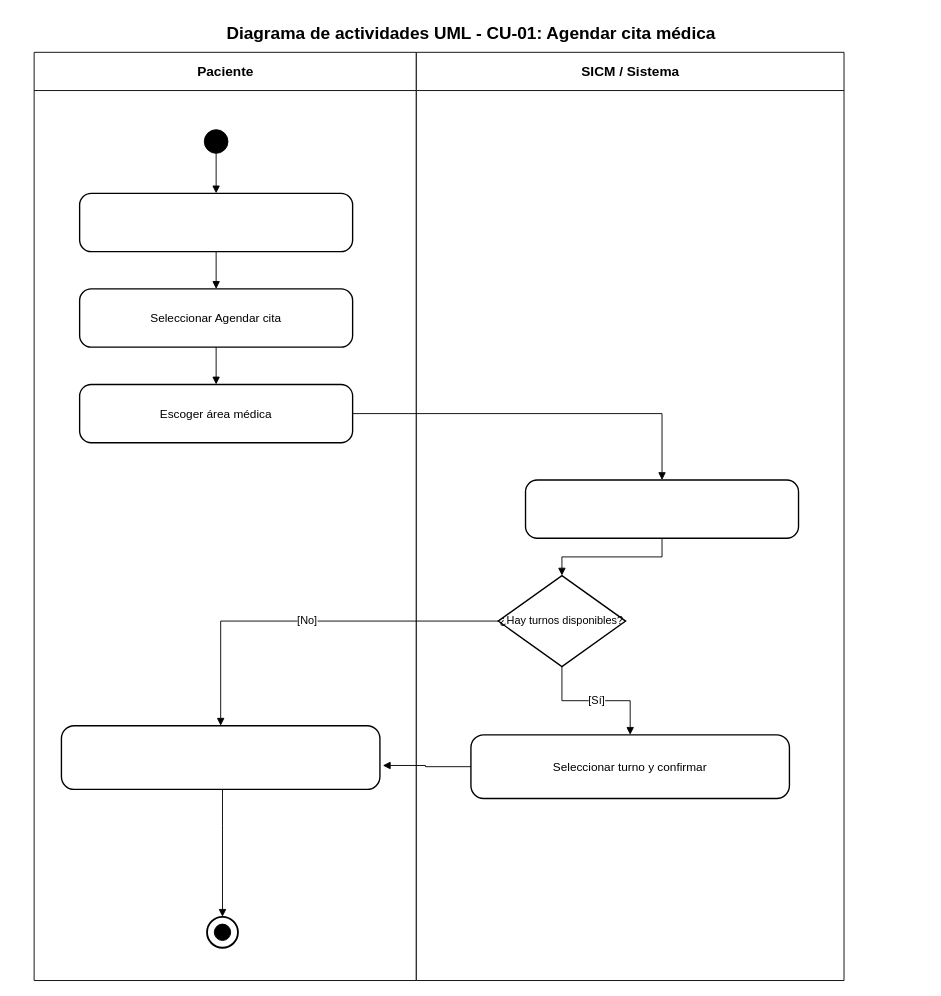
Some shapes in this 941 by 996 pixel diagram are drawn without their labels. The centre of each missing label's shape, as x and y in pixels:
"Acceder a Gestionar Citas" belongs at (216,222).
"Consultar turnos disponibles" belongs at (661,509).
"Mostrar próximas fechas disponibles" belongs at (220,757).
